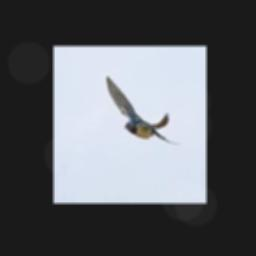Swallow: (106, 74, 180, 145)
